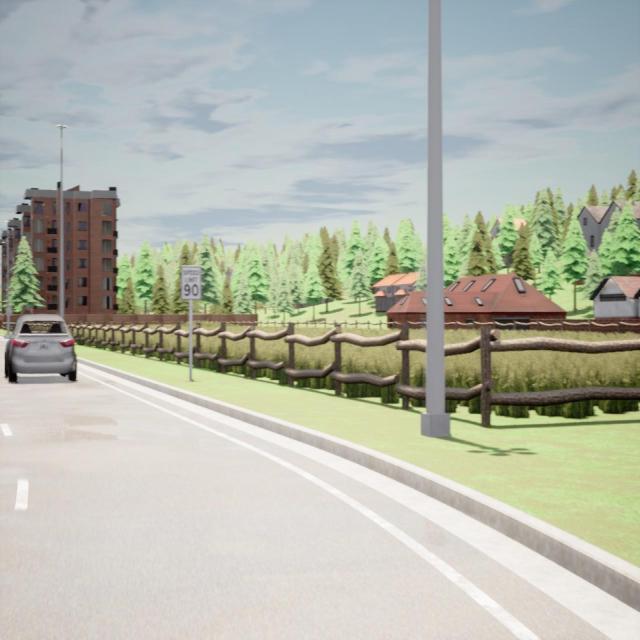Traffic_Signs: (182, 266, 202, 300)
Vehicle: (4, 313, 76, 382)
